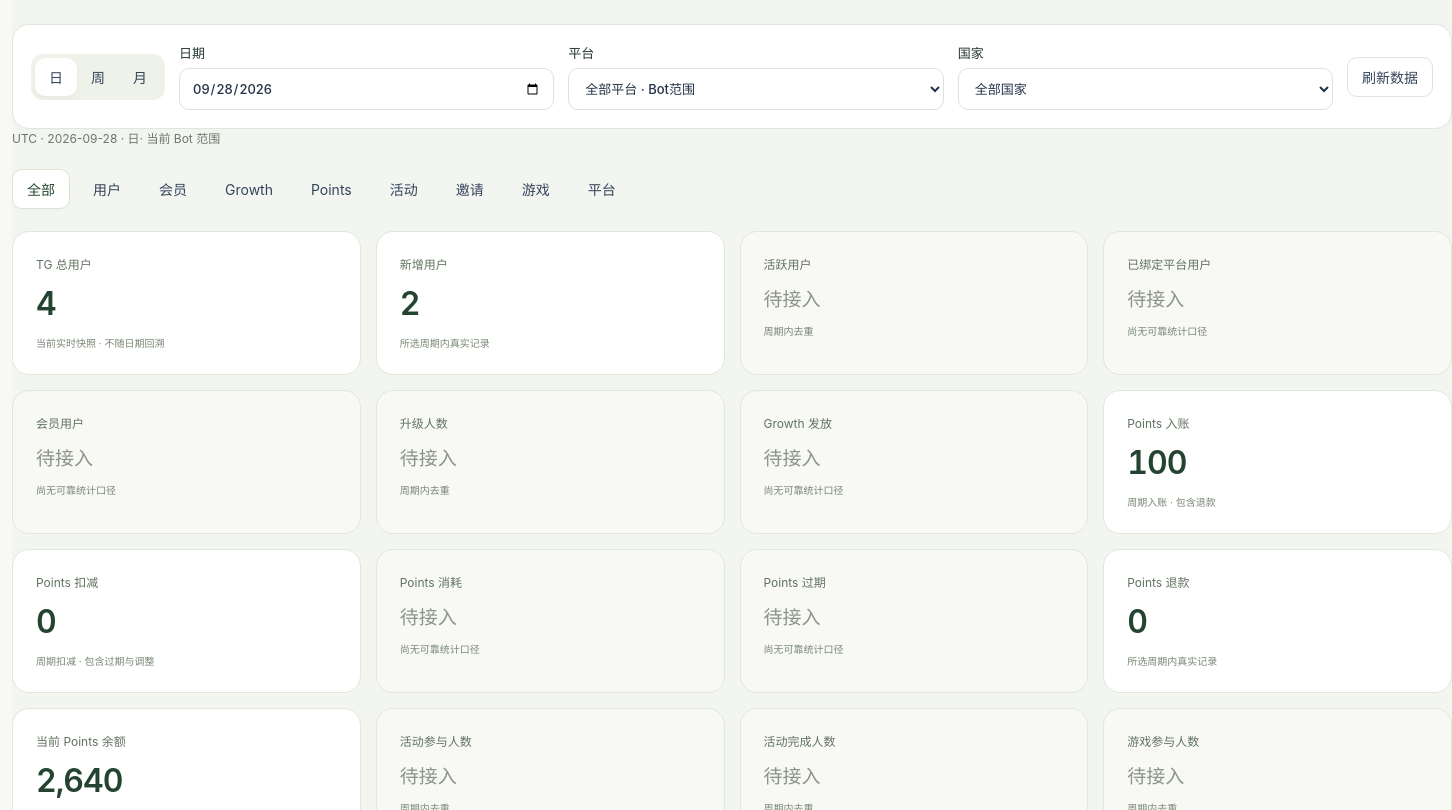
it: period changes issue bounded aggregate GETs; platform filters never leak Bot totals
Expected: the text "2,640" is shown, x1=36 y1=761 x2=122 y2=800
Click the button "月" at (140, 76), box x1=119 y1=58 x2=161 y2=96
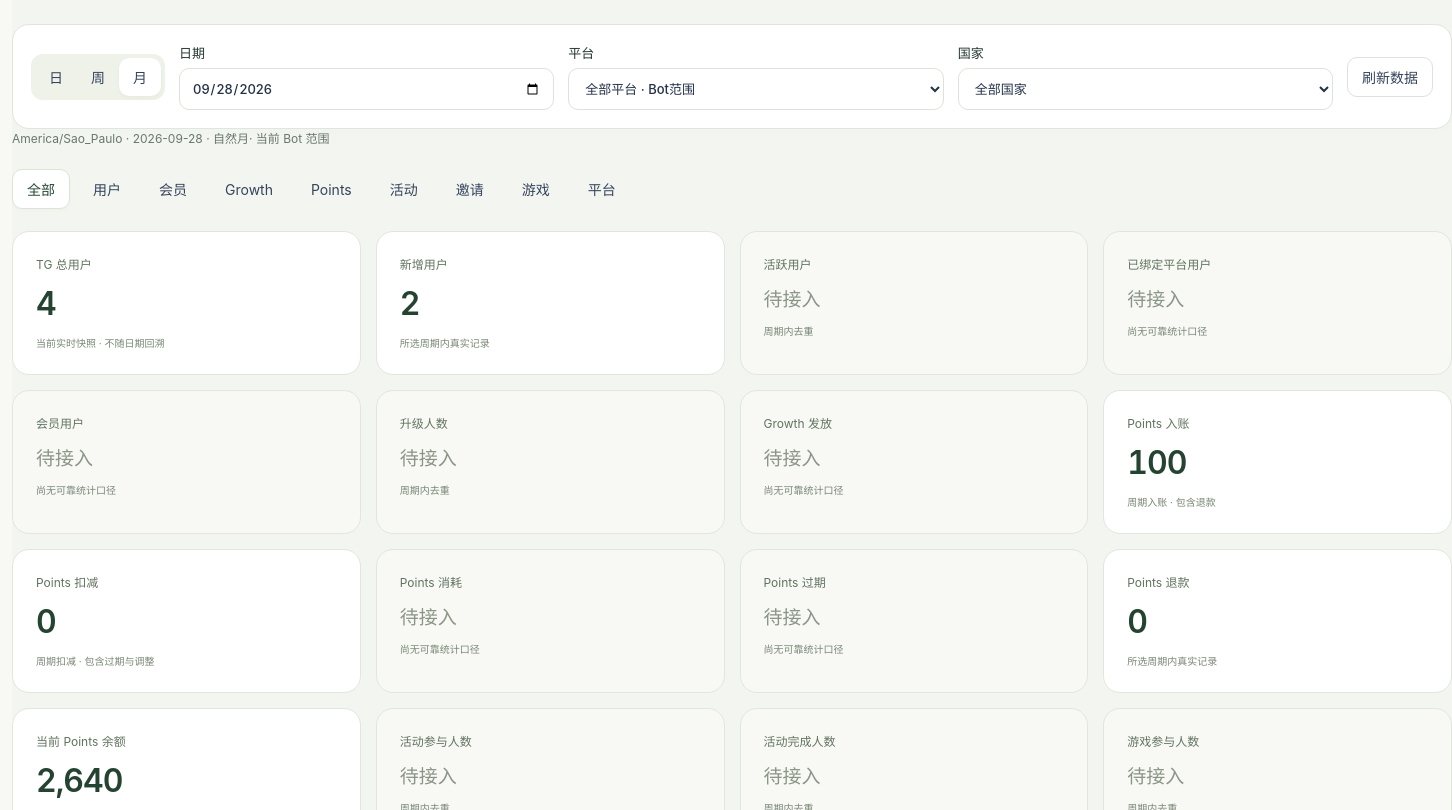
Select "Platform" in the dropdown named "报表平台" at (756, 89), box x1=568 y1=68 x2=944 y2=110
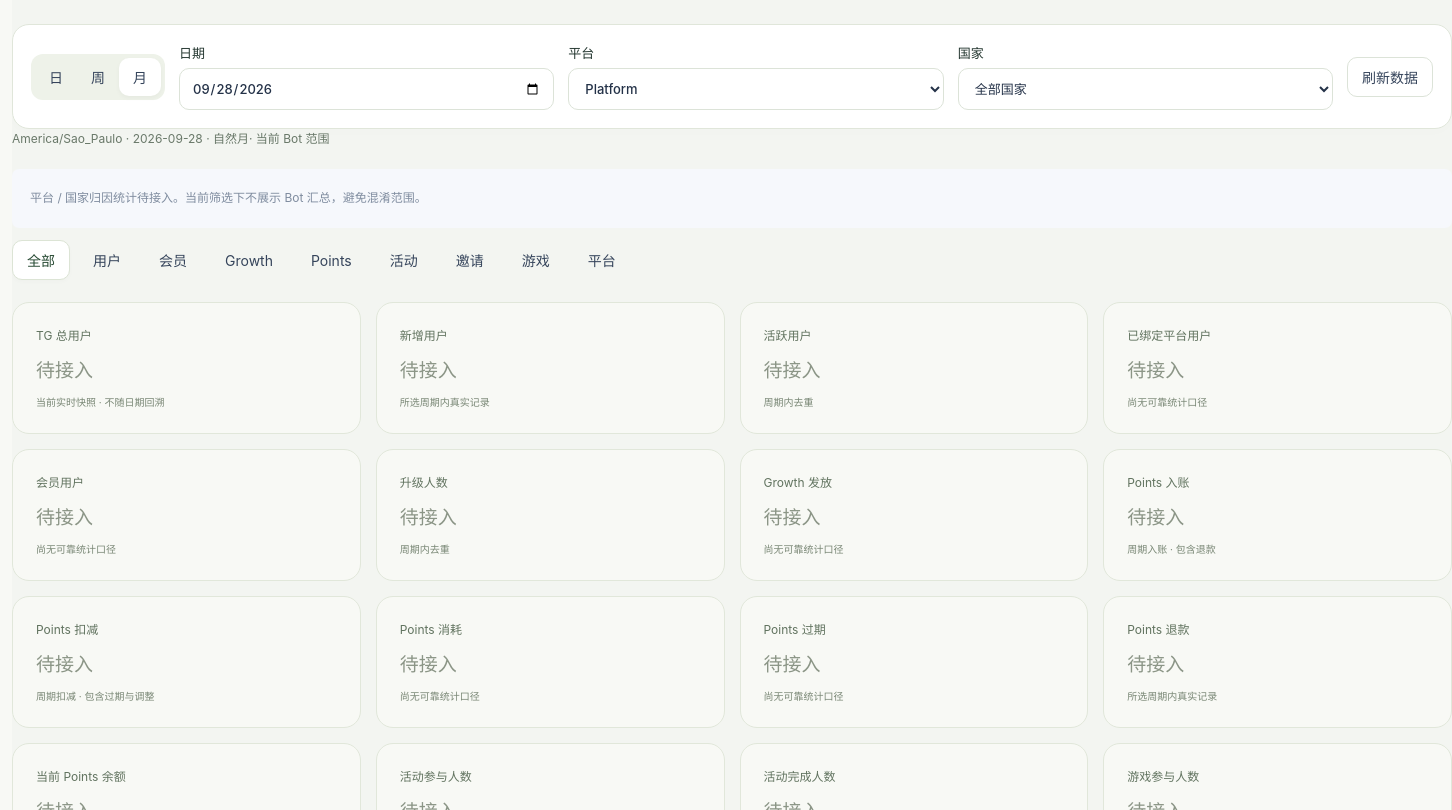
Now the text "2,640" is gone
